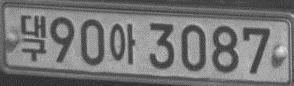0: (179, 23, 207, 72), (79, 19, 106, 65)
3: (148, 22, 175, 69)
7: (242, 26, 270, 75)
8: (211, 25, 238, 74)
9: (49, 16, 74, 62)
대구_V: (19, 15, 47, 62)
아: (108, 21, 136, 65)
